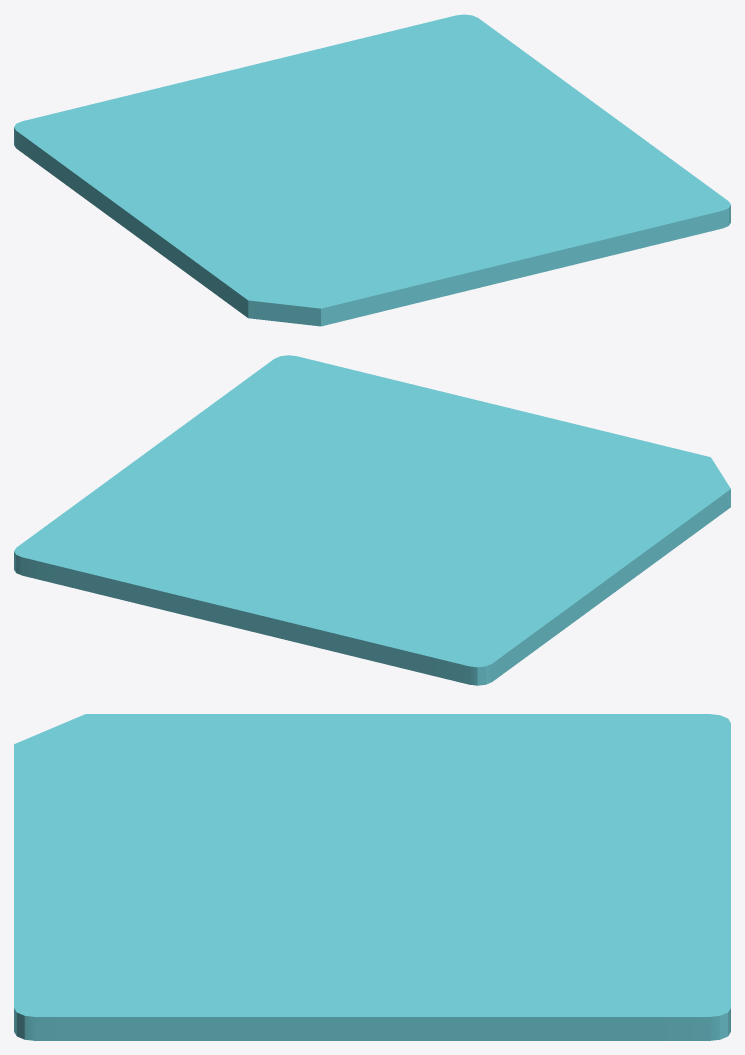
The model's file is B_FloppyDisk.fbx.
The picture shows the model from 3 angles, top to bottom: view 1: azimuth 30°, elevation 25°; view 2: azimuth 150°, elevation 25°; view 3: azimuth 270°, elevation 25°; orthographic projection. The views are drawn at different scales.
Visible parts, largest first — view 1: B_FloppyDisk; view 2: B_FloppyDisk; view 3: B_FloppyDisk.
Boxes of the visible parts, x1,y1,x2,y2 form: B_FloppyDisk: (14, 14, 730, 326); B_FloppyDisk: (14, 355, 730, 685); B_FloppyDisk: (14, 714, 730, 1040).
Bounding box in the file's own units: 1.44 × 0.0532 × 1.44.
1 material, 1 textured.
